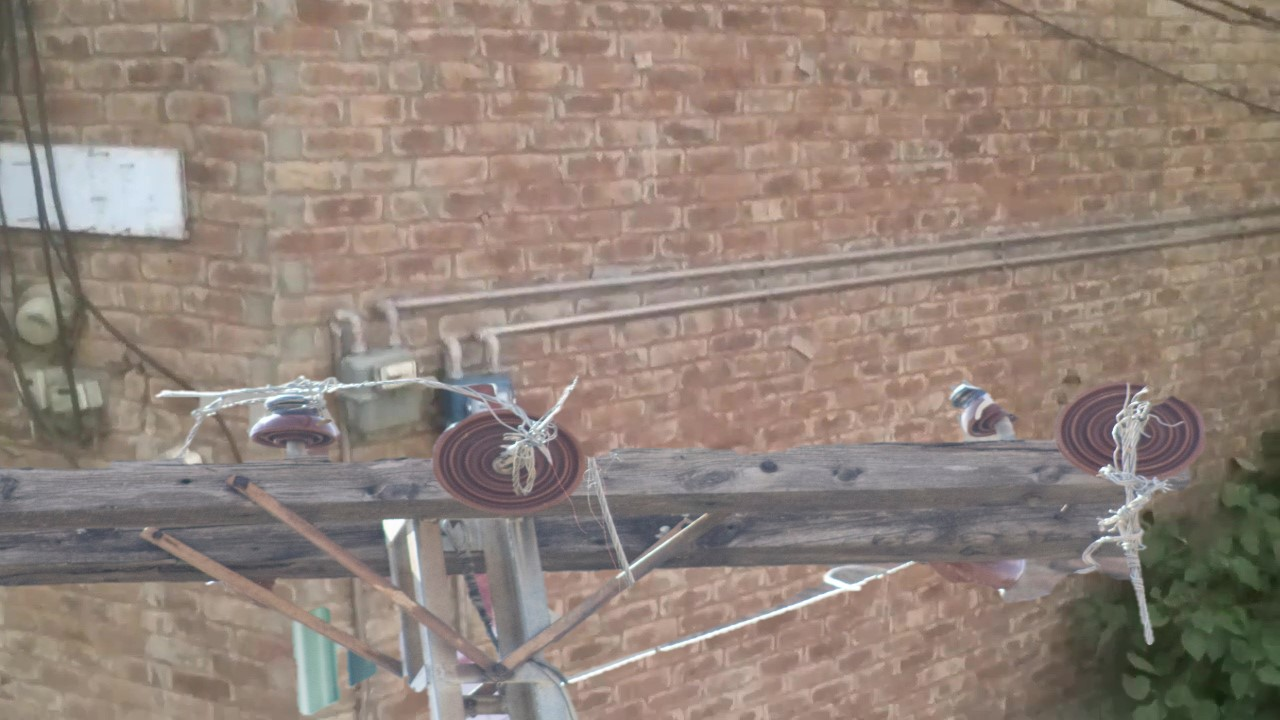defect_pin: (944, 377, 1020, 447)
insulator_disc: (427, 406, 592, 521), (1055, 379, 1206, 479)
insulator_pin: (242, 386, 344, 459)
